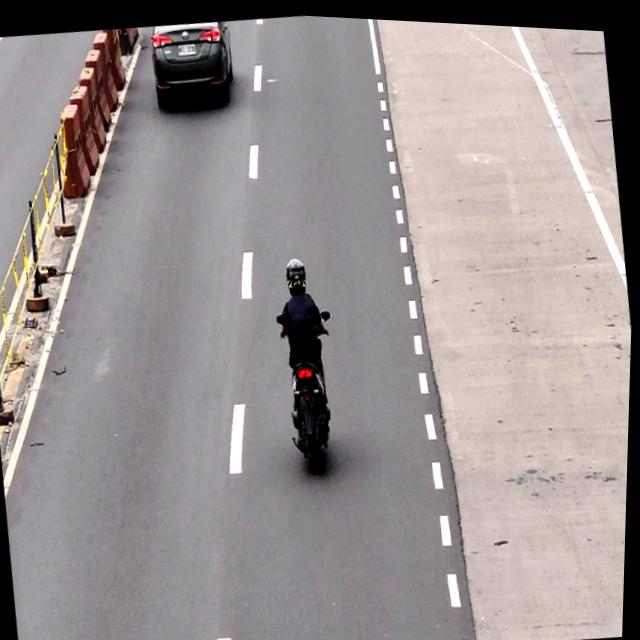Car: (270, 247, 349, 478), (146, 15, 236, 107)
License-Plate: (176, 39, 197, 56)
